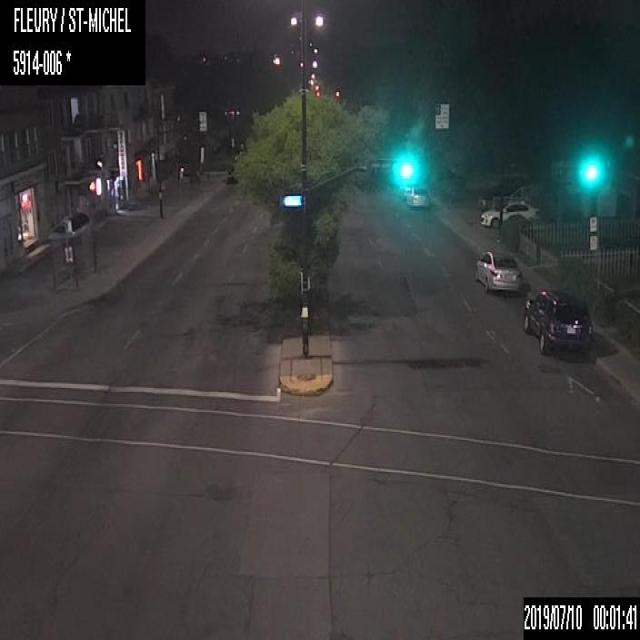vehicle: (523, 286, 592, 352), (473, 245, 522, 292), (479, 200, 540, 227), (405, 184, 428, 206)
